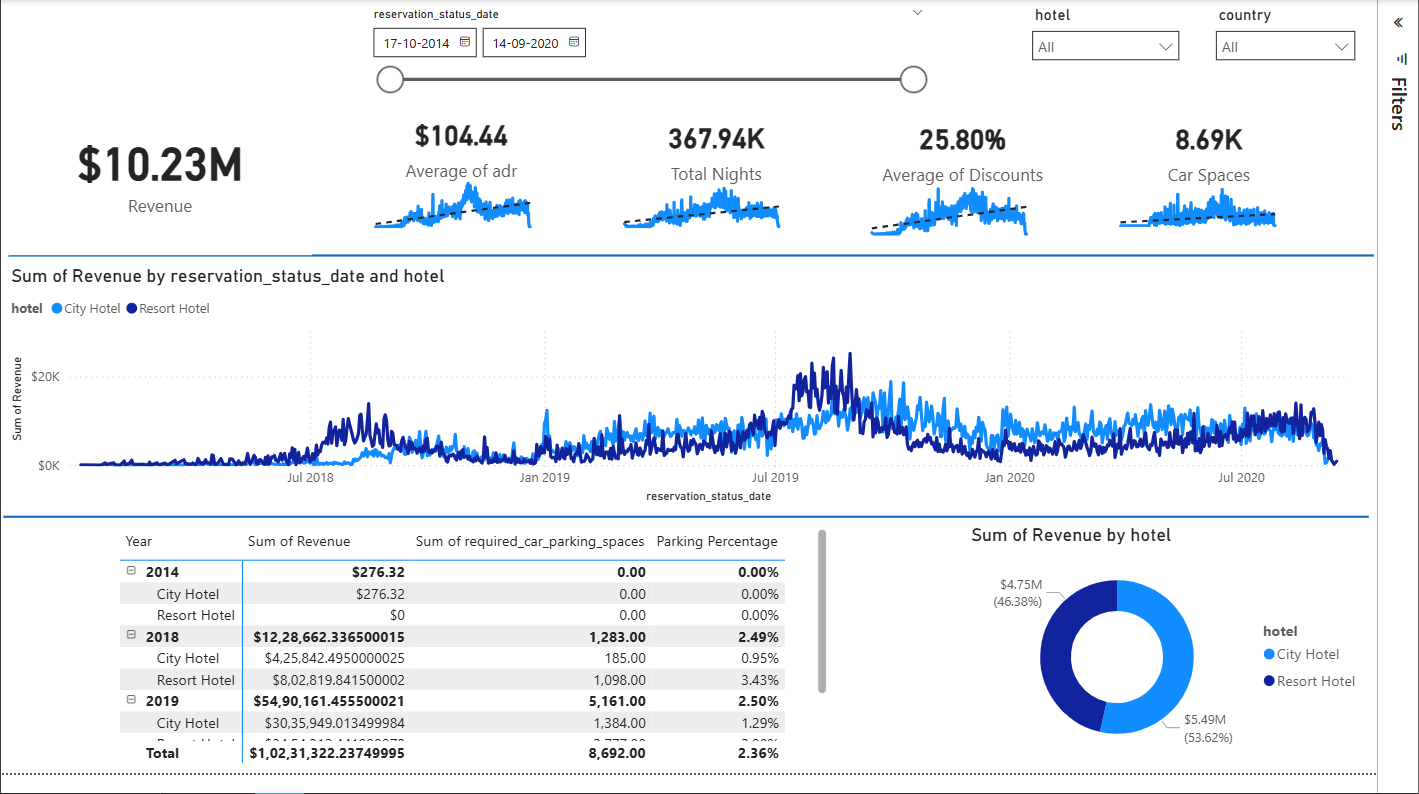

What the dashboard file says about the page in this screenshot:
{"tool":"powerbi","page":{"name":"Page 1","canvas":[1280,720],"ordinal":0},"visuals":[{"type":"shape","box":[2.5,341.2,1270,280],"z":0},{"type":"shape","box":[7.5,97.5,1270,280],"z":1000},{"type":"card","fields":{"Values":["Sum(Query1.Revenue)"]},"box":[7.5,81.2,282.5,156.2],"z":2000},{"type":"card","fields":{"Values":["Avg(Query1.adr)"]},"box":[321.5,94.5,215,83.8],"z":3000},{"type":"card","fields":{"Values":["Query1.Measure"]},"box":[557.7,97,215,83.8],"z":4000},{"type":"card","fields":{"Values":["Query1.Average of Discounts"]},"box":[787.7,98.2,215,83.8],"z":5000},{"type":"lineChart","fields":{"Category":["Query1.reservation_status_date"],"Y":["Sum(Query1.Revenue)"],"Series":["Query1.hotel"]},"box":[5,246.2,1265,226.2],"z":6000},{"type":"slicer","fields":{"Values":["Query1.country"]},"box":[1120,0,150,81.2],"z":7000},{"type":"slicer","fields":{"Values":["Query1.hotel"]},"box":[948.8,0,157.5,81.2],"z":8000},{"type":"lineChart","fields":{"Category":["Query1.reservation_status_date"],"Y":["Sum(Query1.adr)"]},"box":[333.5,151,173.8,66.2],"z":9000},{"type":"lineChart","fields":{"Category":["Query1.reservation_status_date"],"Y":["Query1.Measure"]},"box":[565.2,150.7,173.8,66.2],"z":10000},{"type":"lineChart","fields":{"Category":["Query1.reservation_status_date"],"Y":["Sum(Query1.Discount)"]},"box":[795.2,158.2,173.8,66.2],"z":11000},{"type":"card","fields":{"Values":["Sum(Query1.required_car_parking_spaces)"]},"box":[1016.3,98.2,215,83.8],"z":12000},{"type":"lineChart","fields":{"Category":["Query1.reservation_status_date"],"Y":["Sum(Query1.required_car_parking_spaces)"]},"box":[1026.5,150.5,173.8,66.2],"z":13000},{"type":"donutChart","fields":{"Category":["Query1.hotel"],"Y":["Sum(Query1.Revenue)"]},"box":[897.5,487.5,376.2,227.5],"z":14000},{"type":"pivotTable","fields":{"Rows":["Query1.reservation_status_date.Variation.Date Hierarchy.Year","Query1.hotel"],"Values":["Sum(Query1.Revenue)","Sum(Query1.required_car_parking_spaces)","Query1.Parking Percentage"]},"box":[106.2,487.5,667.5,227.5],"z":15000},{"type":"slicer","fields":{"Values":["Query1.reservation_status_date"]},"box":[333.8,1.2,536.2,97.5],"z":15001}]}

Visuals, with their boxes on the page's 1280x720 design canvas (x1, y1, x2, y2). These are canvas units, not pixel positions in the 1419x794 screenshot, which may show the page scaled, cropped or inside an application window:
shape: [x1=2, y1=341, x2=1272, y2=621]
shape: [x1=8, y1=98, x2=1278, y2=378]
card - Sum(Query1.Revenue): [x1=8, y1=81, x2=290, y2=237]
card - Avg(Query1.adr): [x1=322, y1=94, x2=536, y2=178]
card - Query1.Measure: [x1=558, y1=97, x2=773, y2=181]
card - Query1.Average of Discounts: [x1=788, y1=98, x2=1003, y2=182]
lineChart - Query1.reservation_status_date x Sum(Query1.Revenue): [x1=5, y1=246, x2=1270, y2=472]
slicer - Query1.country: [x1=1120, y1=0, x2=1270, y2=81]
slicer - Query1.hotel: [x1=949, y1=0, x2=1106, y2=81]
lineChart - Query1.reservation_status_date x Sum(Query1.adr): [x1=334, y1=151, x2=507, y2=217]
lineChart - Query1.reservation_status_date x Query1.Measure: [x1=565, y1=151, x2=739, y2=217]
lineChart - Query1.reservation_status_date x Sum(Query1.Discount): [x1=795, y1=158, x2=969, y2=224]
card - Sum(Query1.required_car_parking_spaces): [x1=1016, y1=98, x2=1231, y2=182]
lineChart - Query1.reservation_status_date x Sum(Query1.required_car_parking_spaces): [x1=1026, y1=150, x2=1200, y2=217]
donutChart - Query1.hotel x Sum(Query1.Revenue): [x1=898, y1=488, x2=1274, y2=715]
pivotTable - Query1.reservation_status_date.Variation.Date Hierarchy.Year x Query1.hotel: [x1=106, y1=488, x2=774, y2=715]
slicer - Query1.reservation_status_date: [x1=334, y1=1, x2=870, y2=99]
